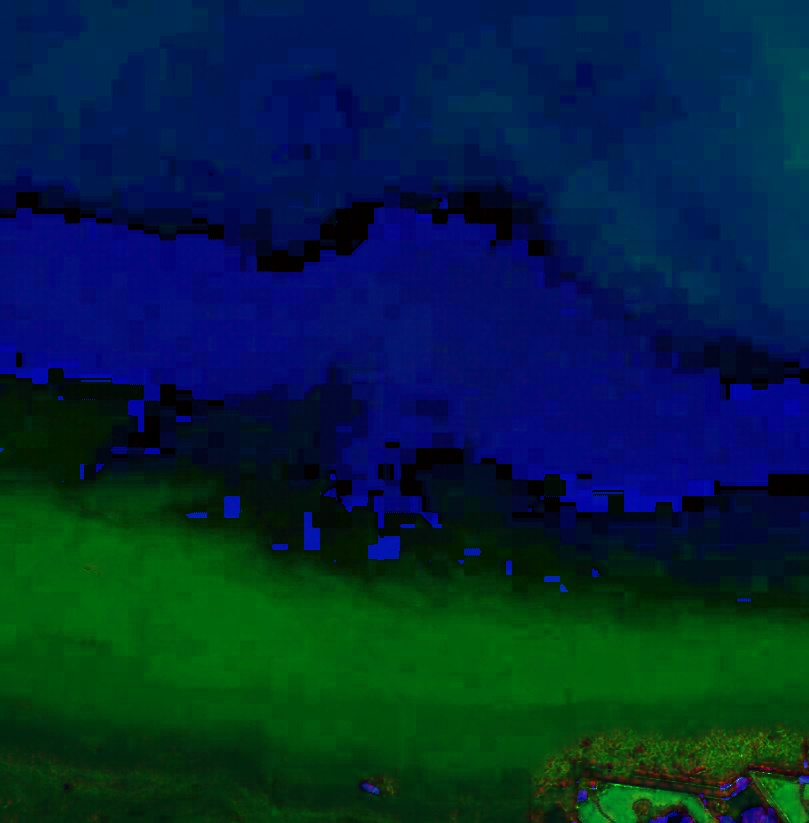rip_current: (102, 316, 393, 534)
